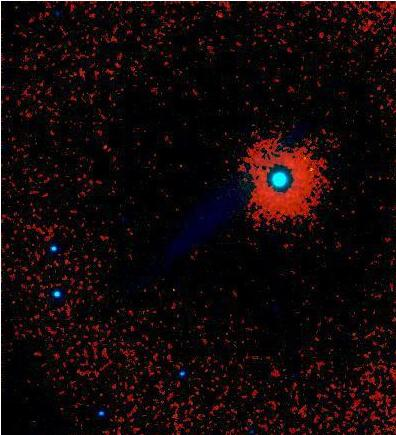star: (89, 133, 119, 163)
